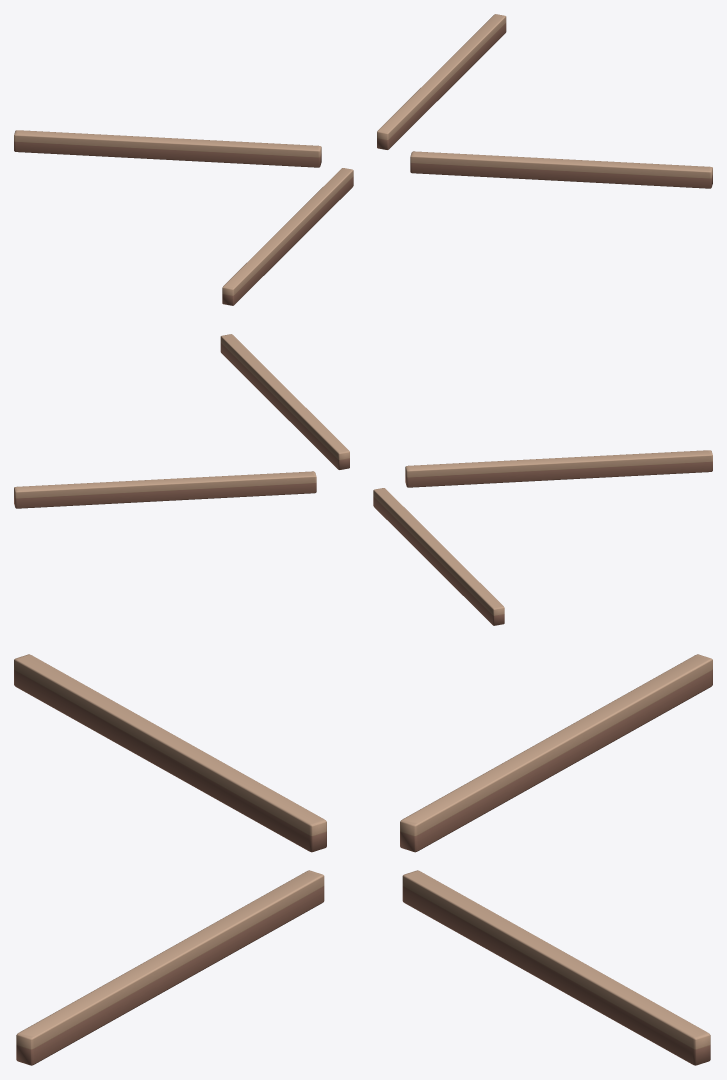
File: Props.fbx
3 views of the same model, one above another, from view 1: azimuth 30°, elevation 25°; view 2: azimuth 150°, elevation 25°; view 3: azimuth 270°, elevation 25° (orthographic). The views are drawn at different scales.
Visible parts, largest first — view 1: Box20-3_1 (6), Box20-3_1 (3), Box20-3_1 (4), Box20-3_1 (5); view 2: Box20-3_1 (4), Box20-3_1 (5), Box20-3_1 (6), Box20-3_1 (3); view 3: Box20-3_1 (4), Box20-3_1 (6), Box20-3_1 (3), Box20-3_1 (5).
Boxes of the visible parts, left/top/right/bottom form: Box20-3_1 (6): left=14, top=130, right=321, bottom=167; Box20-3_1 (3): left=410, top=151, right=712, bottom=188; Box20-3_1 (4): left=222, top=168, right=353, bottom=305; Box20-3_1 (5): left=377, top=14, right=506, bottom=149; Box20-3_1 (4): left=405, top=450, right=712, bottom=487; Box20-3_1 (5): left=14, top=471, right=316, bottom=508; Box20-3_1 (6): left=373, top=488, right=504, bottom=625; Box20-3_1 (3): left=220, top=334, right=349, bottom=469; Box20-3_1 (4): left=14, top=654, right=326, bottom=852; Box20-3_1 (6): left=400, top=654, right=712, bottom=852; Box20-3_1 (3): left=16, top=870, right=324, bottom=1065; Box20-3_1 (5): left=402, top=870, right=710, bottom=1065.
Bounding box in the file's own units: 44.84 × 1.5 × 34.4.
